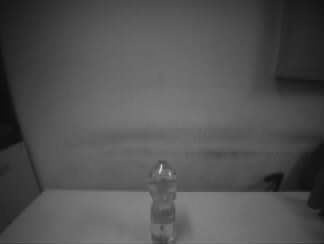Bottle: (144, 155, 179, 244)
